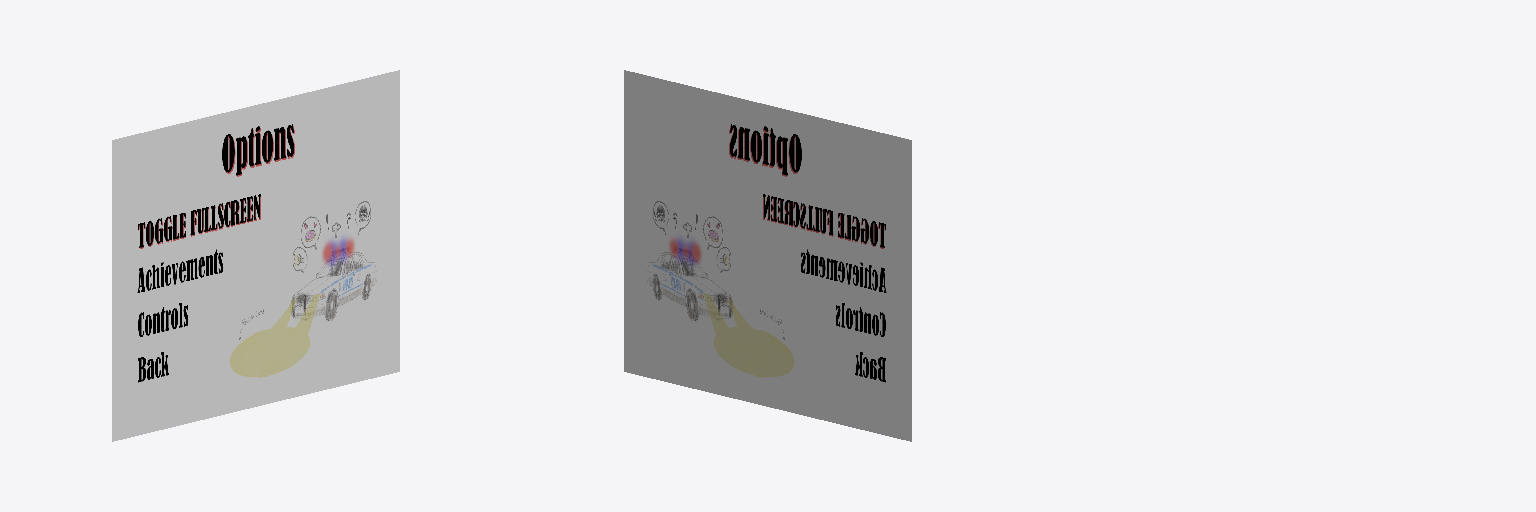
The picture shows the model from 3 angles: view 1: azimuth 30°, elevation 25°; view 2: azimuth 150°, elevation 25°; view 3: azimuth 270°, elevation 25°; orthographic projection.
Parts seen in each view (by area): view 1: Plane; view 2: Plane; view 3: none.
Boxes of the visible parts, box(x1,y1,x2,y2) form: Plane: box(112, 70, 399, 441); Plane: box(624, 70, 911, 441).
Size of the model in its own units: 2 by 2 by 0.
1 materials, 1 textured.